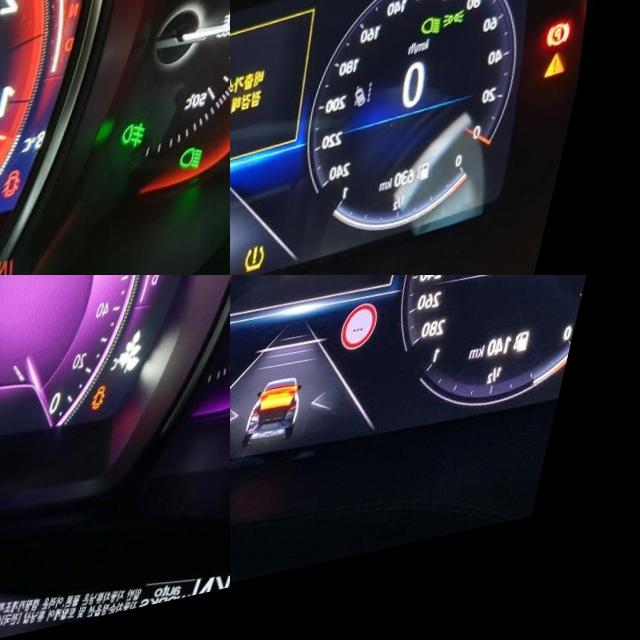Central Warning lamp: (554, 74, 584, 107)
Doors: (22, 171, 48, 205), (110, 401, 130, 429)
FrontFogLight: (140, 130, 172, 164)
Low beam: (200, 156, 230, 186), (429, 32, 455, 61)
SideLamp: (452, 29, 479, 50)
